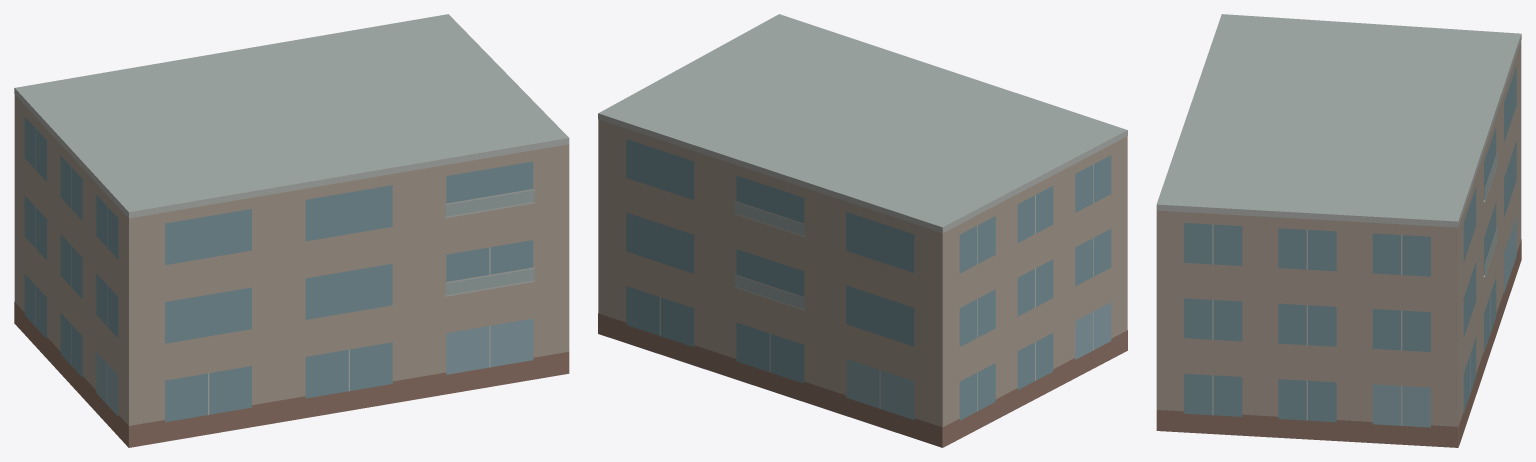
Rendered from survey-upis-32924613.glb.
The picture shows the model from 3 angles, left to right: view 1: azimuth 30°, elevation 25°; view 2: azimuth 150°, elevation 25°; view 3: azimuth 270°, elevation 25°; orthographic projection. The views are drawn at different scales.
Visible parts, largest first — view 1: survey-upis-32924613.tmp; view 2: survey-upis-32924613.tmp; view 3: survey-upis-32924613.tmp.
Boxes of the visible parts, box(x1,y1,x2,y2) form: survey-upis-32924613.tmp: box(14, 14, 569, 447); survey-upis-32924613.tmp: box(598, 14, 1127, 447); survey-upis-32924613.tmp: box(1156, 14, 1521, 447).
Bounding box in the file's own units: 18.01 × 9.15 × 13.38.
